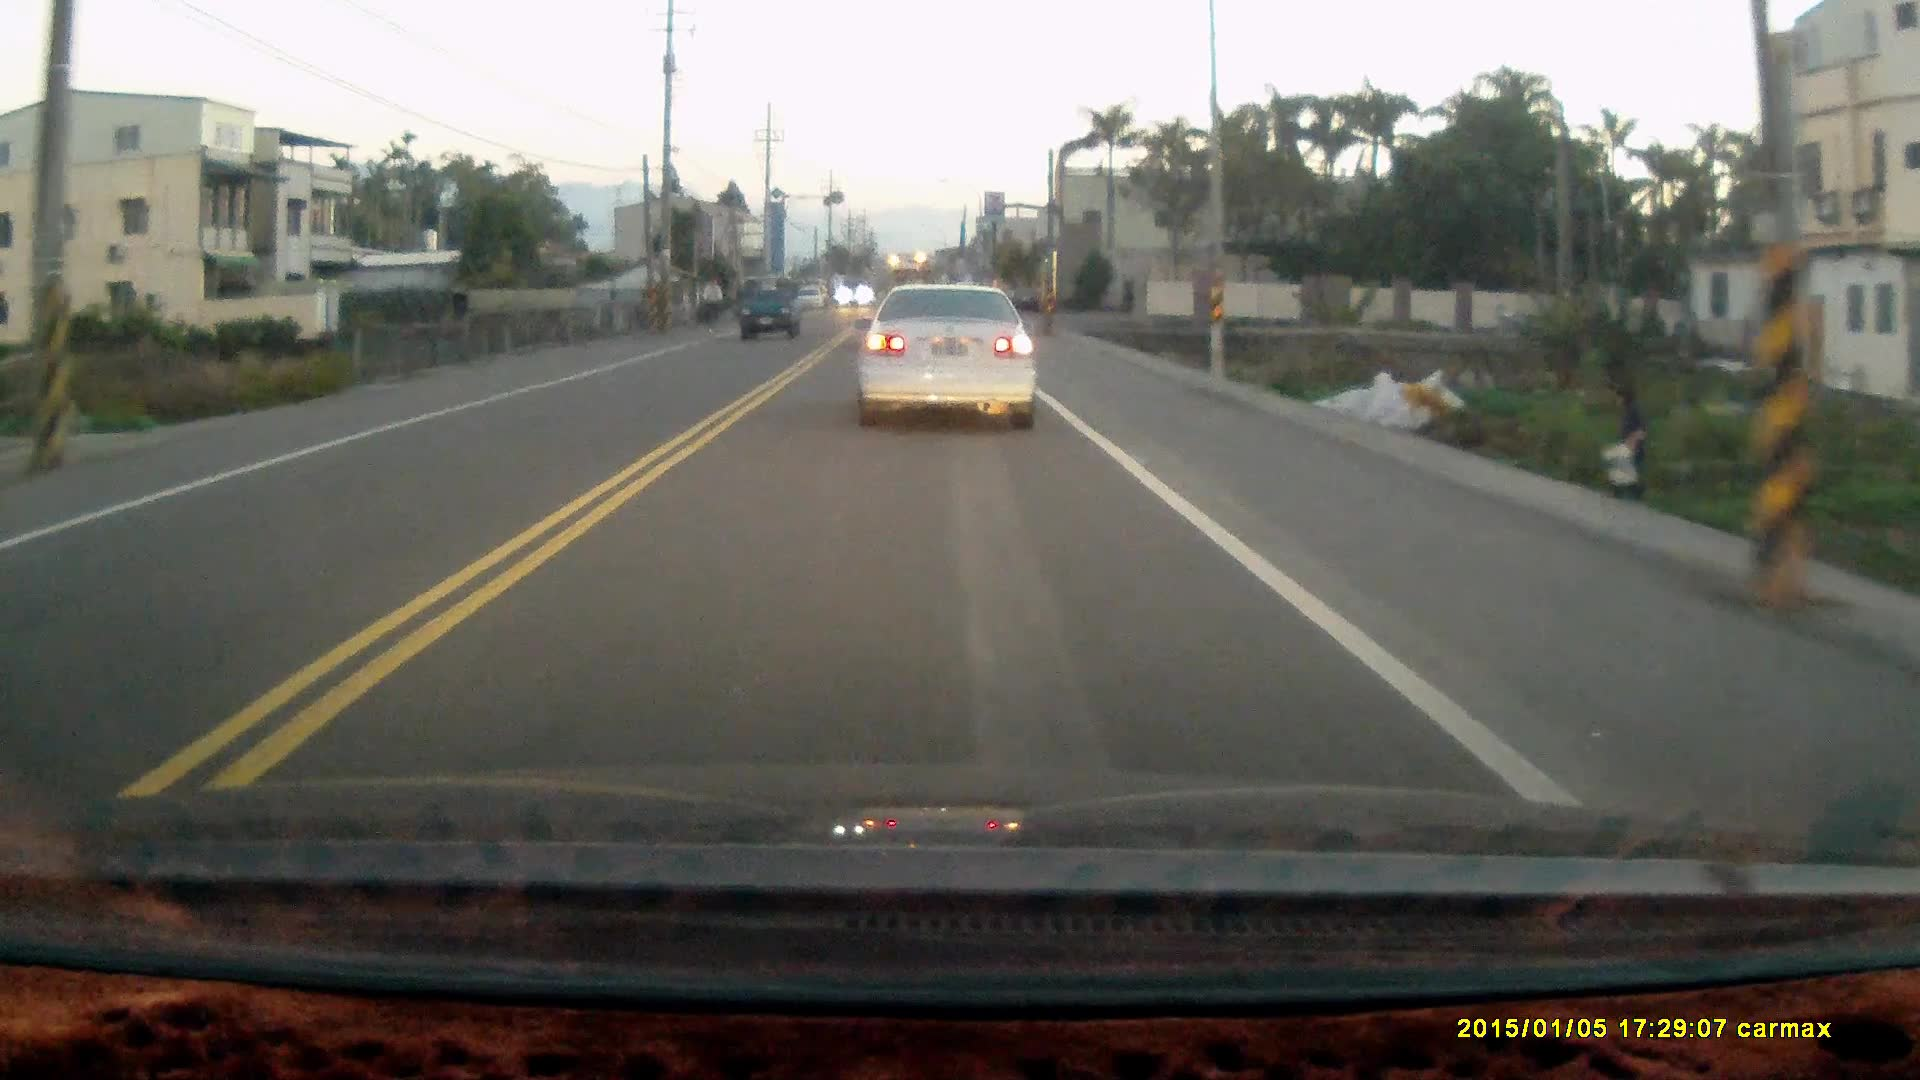pedestrian: (1606, 381, 1647, 508)
rider: (697, 274, 720, 333)
vehicle: (858, 290, 1044, 430), (736, 279, 806, 344)
